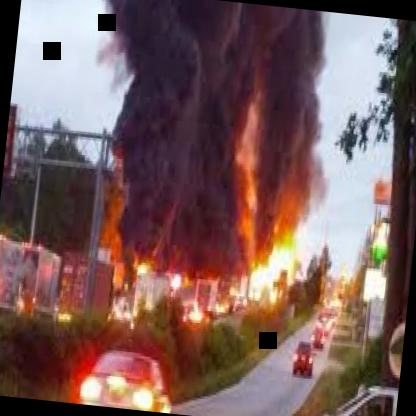fire: (99, 0, 331, 334)
